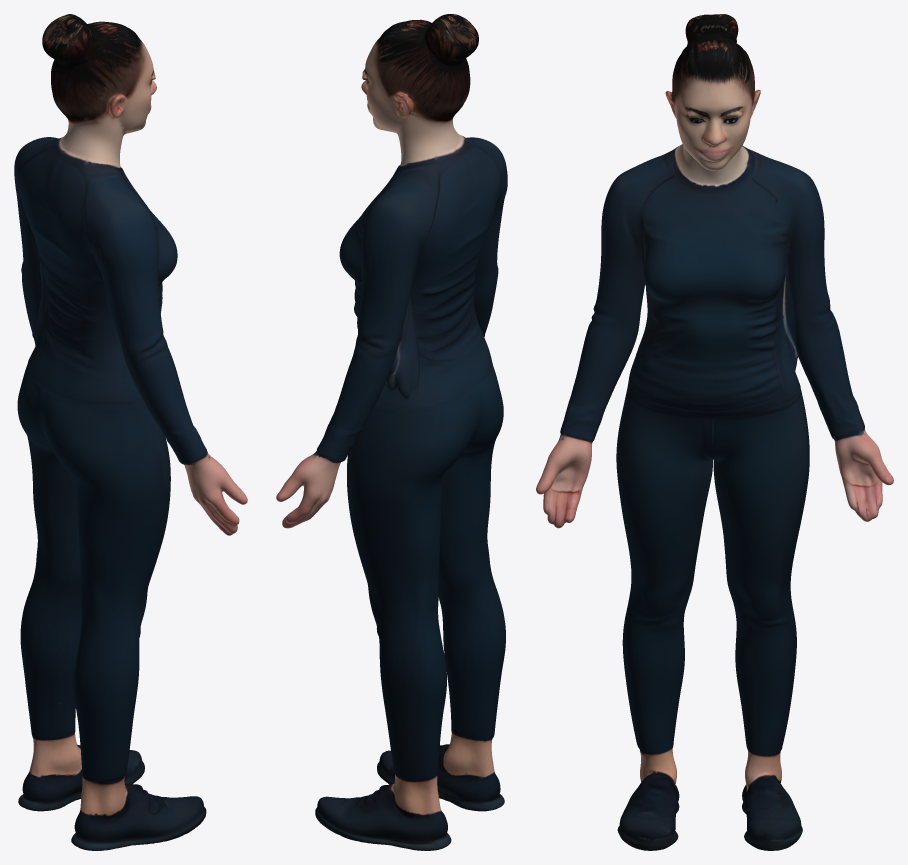
3 renders of one model, left to right at view 1: azimuth 30°, elevation 25°; view 2: azimuth 150°, elevation 25°; view 3: azimuth 270°, elevation 25°, orthographic.
Visible parts, largest first — view 1: tripo_node_ee5e287d-fe51-4bb0-b1d6-e848014ca9ea; view 2: tripo_node_ee5e287d-fe51-4bb0-b1d6-e848014ca9ea; view 3: tripo_node_ee5e287d-fe51-4bb0-b1d6-e848014ca9ea.
Part boxes in pixels (left/top/right/bottom): tripo_node_ee5e287d-fe51-4bb0-b1d6-e848014ca9ea: left=14, top=14, right=247, bottom=850; tripo_node_ee5e287d-fe51-4bb0-b1d6-e848014ca9ea: left=276, top=14, right=507, bottom=850; tripo_node_ee5e287d-fe51-4bb0-b1d6-e848014ca9ea: left=536, top=14, right=893, bottom=850.
Size of the model in its own units: 0.1756 by 1 by 0.4077.
1 material, 1 textured.
